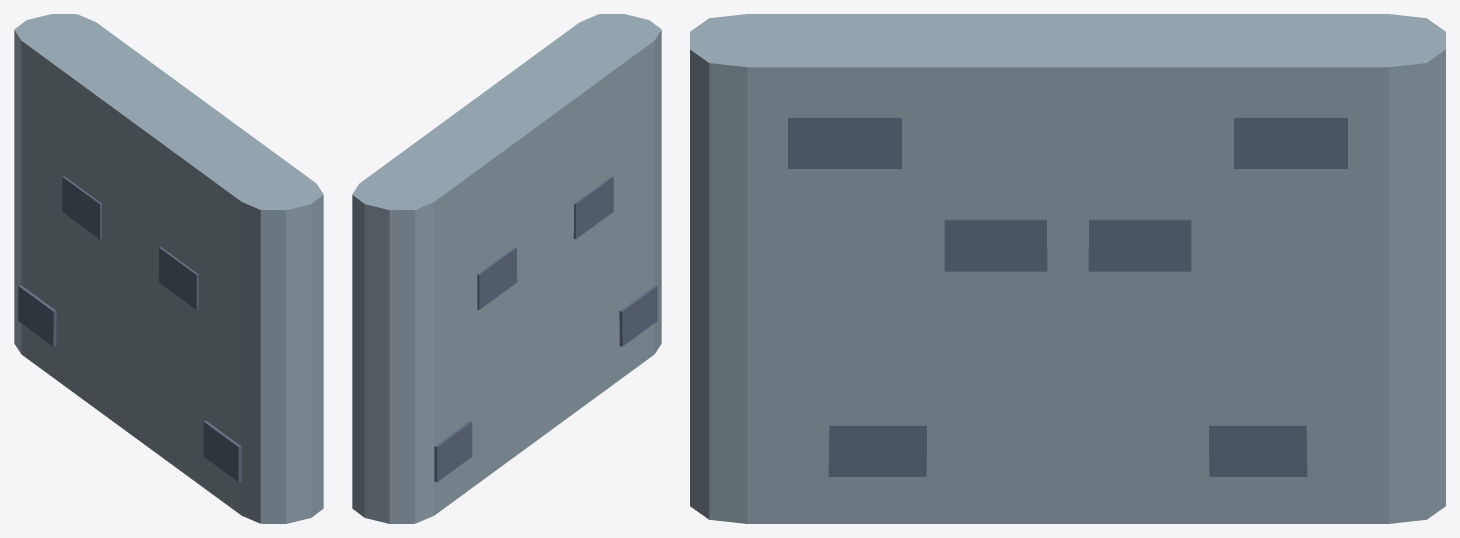
Rendered from CastleWall_normal.fbx.
3 views of the same model, side by side, from view 1: azimuth 30°, elevation 25°; view 2: azimuth 150°, elevation 25°; view 3: azimuth 270°, elevation 25° (orthographic). The views are drawn at different scales.
Visible parts, largest first — view 1: Куб; view 2: Куб; view 3: Куб.
Part boxes in pixels (x1=…): Куб: x1=14, y1=14, x2=323, y2=523; Куб: x1=352, y1=14, x2=661, y2=523; Куб: x1=690, y1=14, x2=1445, y2=523.
Size of the model in its own units: 109 by 400 by 600.
